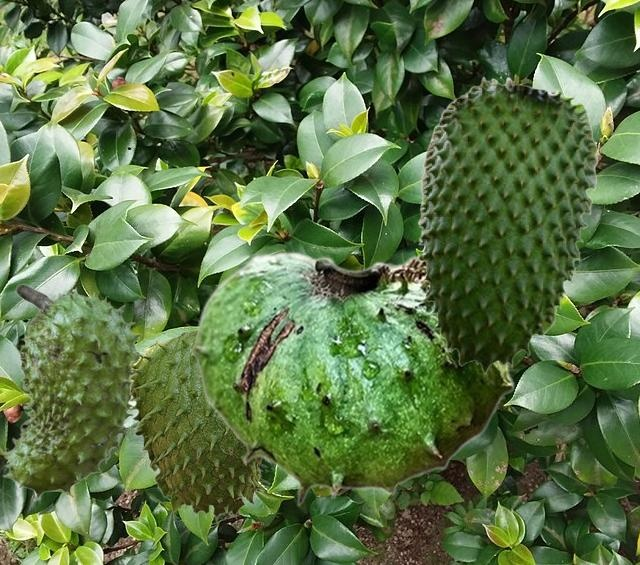guyabano: (190, 251, 514, 506), (417, 76, 597, 373), (1, 283, 143, 501), (128, 329, 275, 522)
